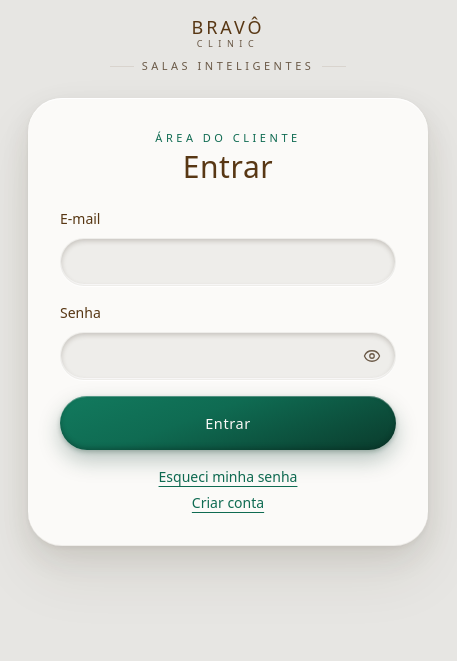
it: LoginPage › shows "E-mail ou senha incorretos" on a 401 response
In the field labelled "E-mail": (228, 262) [60,238,396,286], type "ana@example.com"
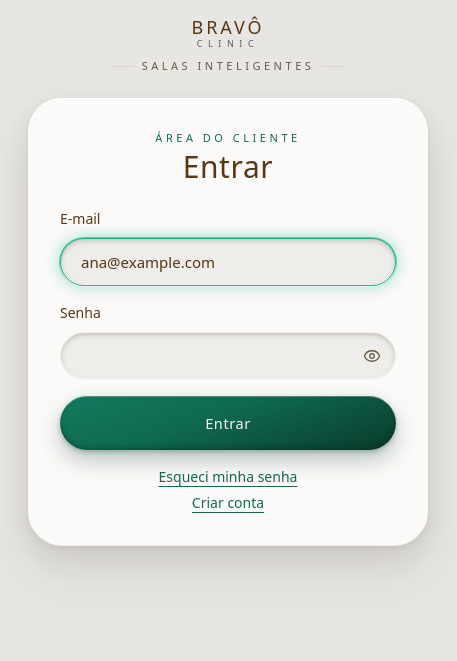
In the password field labelled "Senha": (228, 356) [60,332,396,380], type "Senha1234"
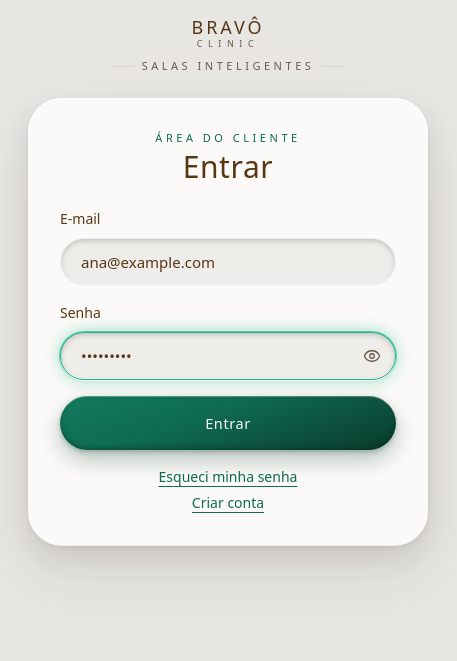
Click the button "Entrar": (228, 423) [60,396,396,450]
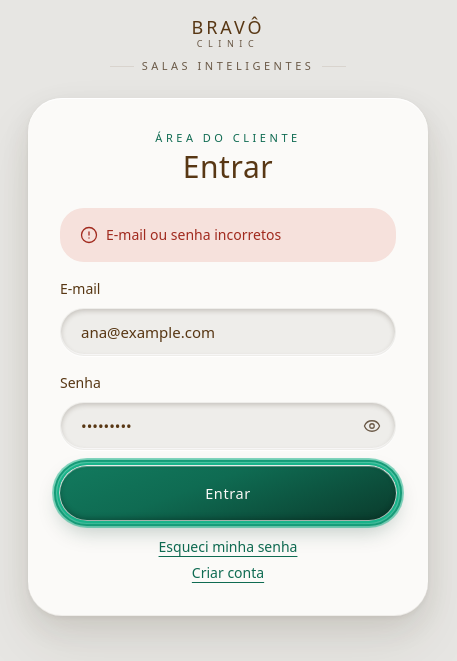
Now the message reads "E-mail ou senha incorretos", box [106,225,281,244]
